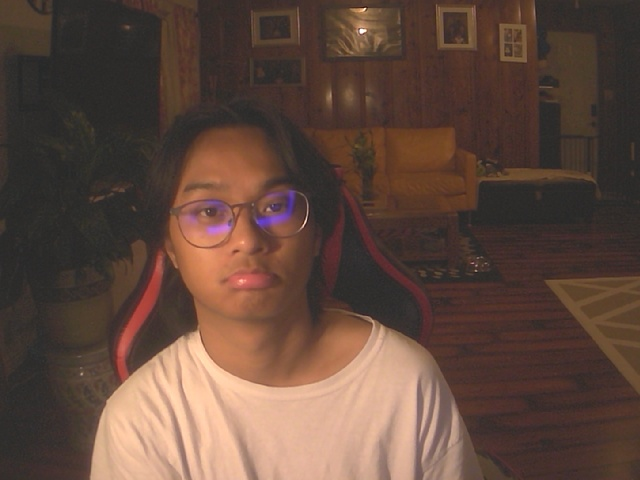sad: (137, 98, 344, 320)
